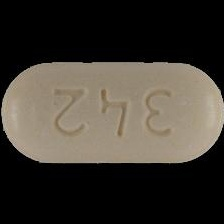61786-634: (0, 0, 224, 224)
